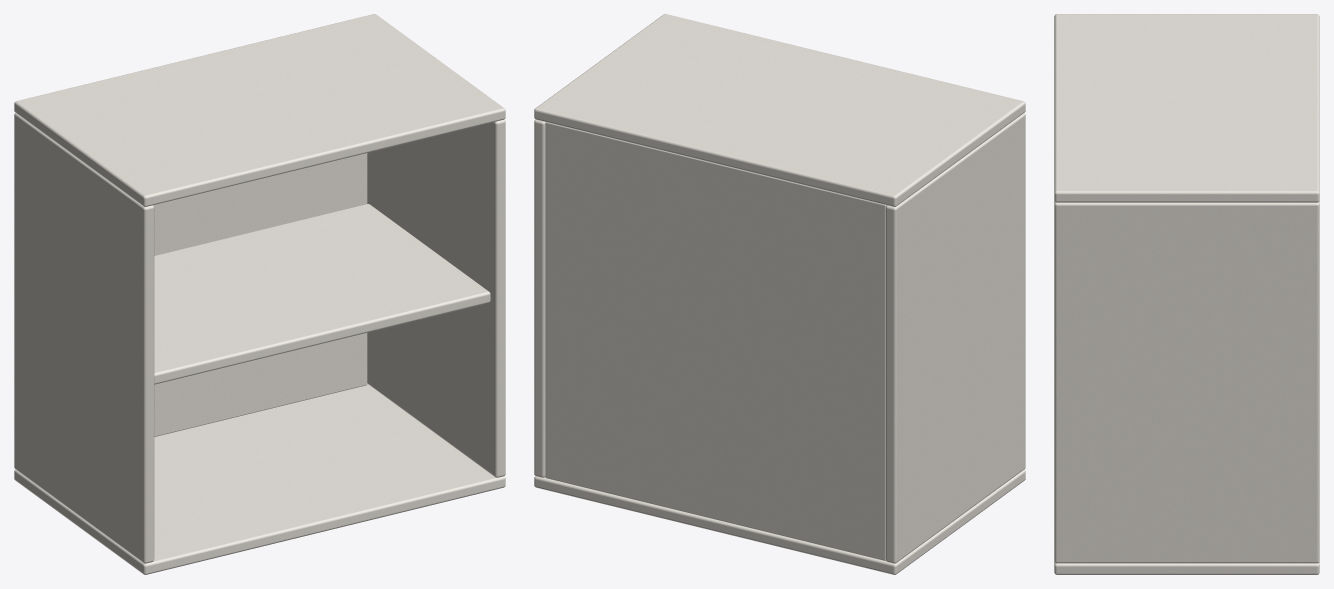
The model's file is metod-wall.glb.
The picture shows the model from 3 angles, left to right: view 1: azimuth 30°, elevation 25°; view 2: azimuth 150°, elevation 25°; view 3: azimuth 270°, elevation 25°; orthographic projection.
Parts seen in each view (by area): view 1: METOD Wall cabinet frame; view 2: METOD Wall cabinet frame; view 3: METOD Wall cabinet frame.
Part boxes in pixels (x1,y1,x2,y2): METOD Wall cabinet frame: (14,14,505,574); METOD Wall cabinet frame: (534,14,1025,574); METOD Wall cabinet frame: (1054,14,1319,574).
Size of the model in its own units: 0.6 by 0.6 by 0.376.
1 material, 1 textured.
